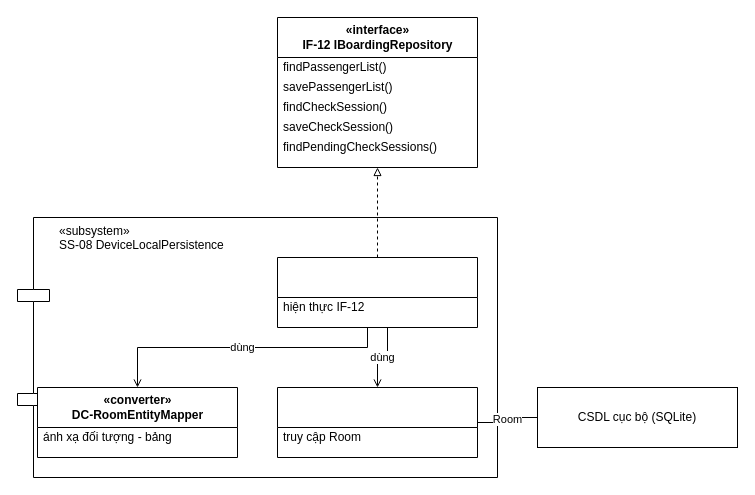
The diagram is 755 pixels wide and 495 high, and some of its shapes have lost their labels. The box of each missing label's shape, as (x1, y1, x2, y2) in pixels:
«adapter» DC-BoardingDao: (276, 386, 478, 458)
«control» DC-BoardingLocalRepositoryImpl: (276, 256, 478, 328)
